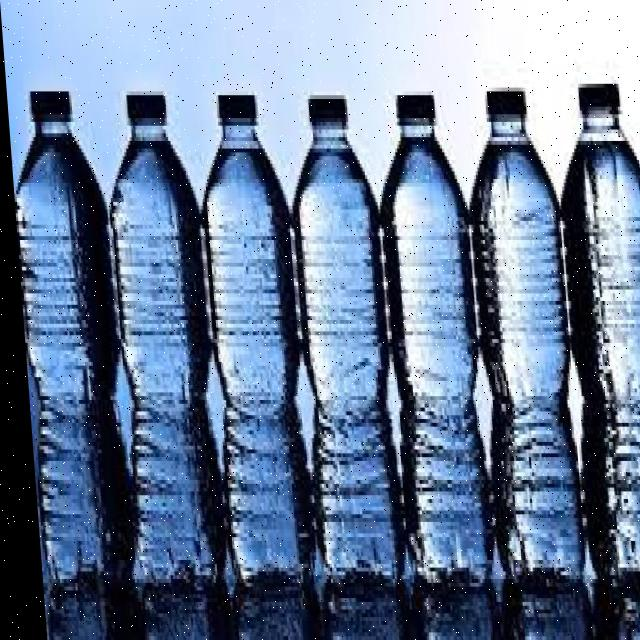bottle: (5, 65, 640, 543)
